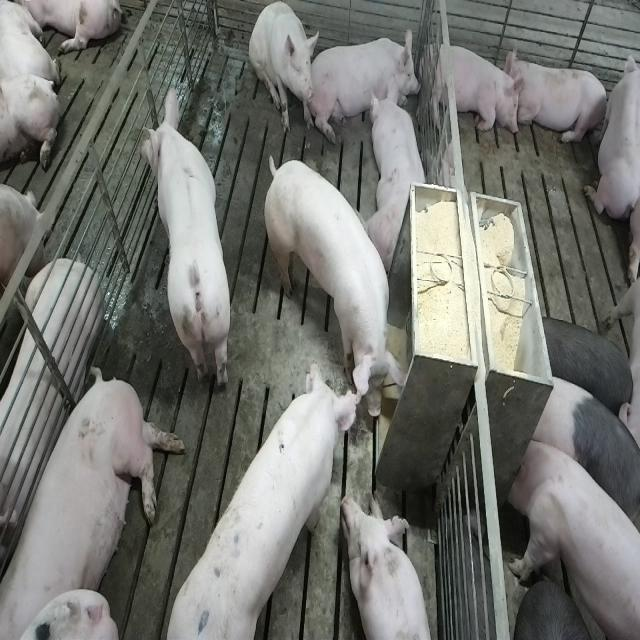Lateral_lying: (4, 362, 188, 636), (0, 256, 103, 570)
Sitting: (249, 2, 319, 136)
Standing: (163, 357, 367, 635), (263, 158, 404, 424), (138, 82, 234, 396), (505, 435, 638, 640), (530, 374, 638, 538), (538, 312, 630, 414)
Sternal_lying: (345, 493, 437, 640), (313, 27, 421, 138), (369, 86, 430, 272), (509, 51, 610, 149), (584, 42, 638, 224), (426, 37, 522, 139)
